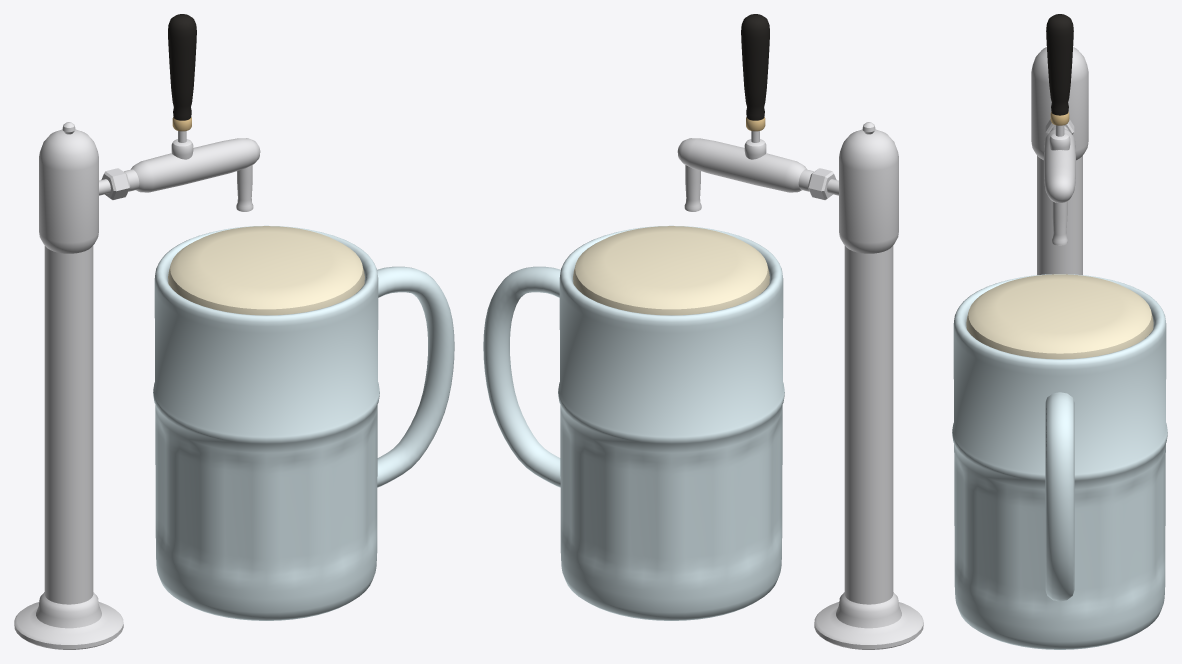
Rendered from beer.glb.
3 views of the same model, side by side, from view 1: azimuth 30°, elevation 25°; view 2: azimuth 150°, elevation 25°; view 3: azimuth 270°, elevation 25° (orthographic). The views are drawn at different scales.
Parts seen in each view (by area): view 1: Mug, Tap, Head, TapHandle; view 2: Mug, Tap, Head, TapHandle; view 3: Mug, Head, Tap, TapHandle.
Boxes of the visible parts, x1,y1,x2,y2 form: Mug: (153,225,454,620); Tap: (14,122,260,649); Head: (168,226,364,315); TapHandle: (168,14,196,142); Mug: (483,225,784,620); Tap: (677,122,923,649); Head: (573,226,769,315); TapHandle: (741,14,769,142); Mug: (952,274,1167,649); Head: (966,274,1153,359); Tap: (1031,47,1088,274); TapHandle: (1046,14,1073,136).
Size of the model in its own units: 3.38 by 4.55 by 1.54.
